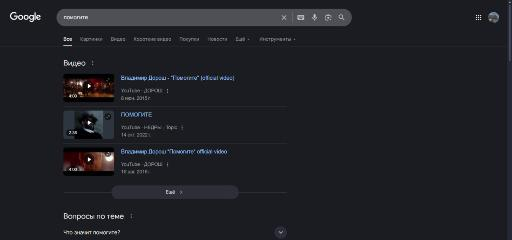google: (0, 0, 507, 240)
